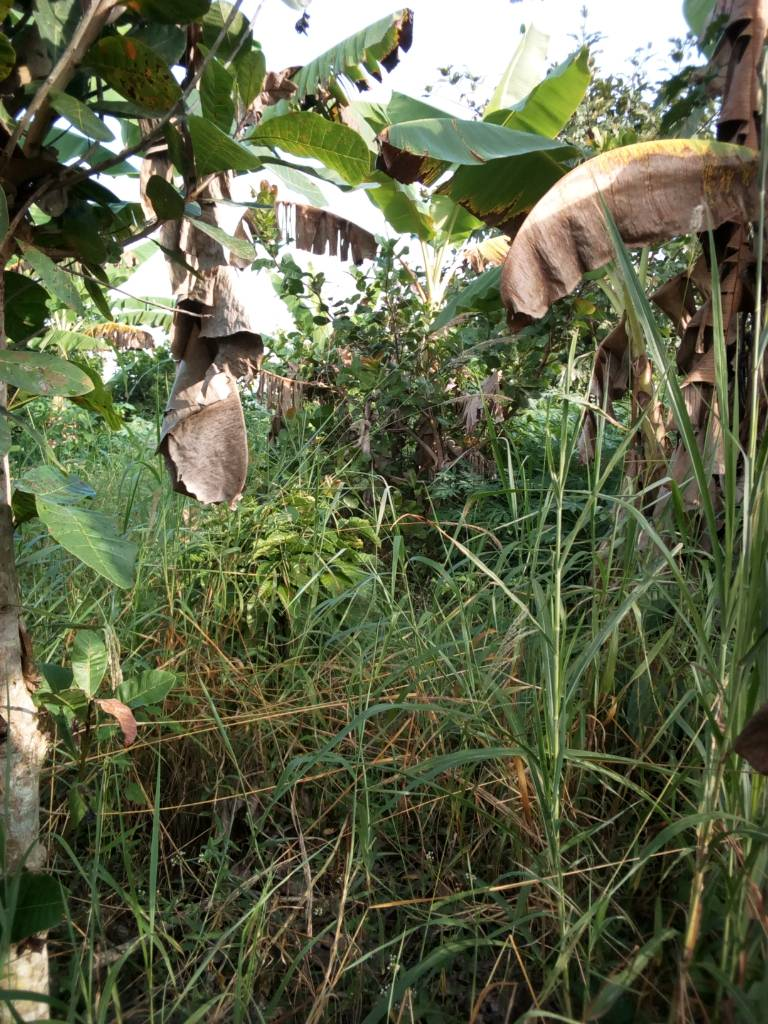Anthracnose: (90, 33, 185, 119), (5, 346, 94, 399)
